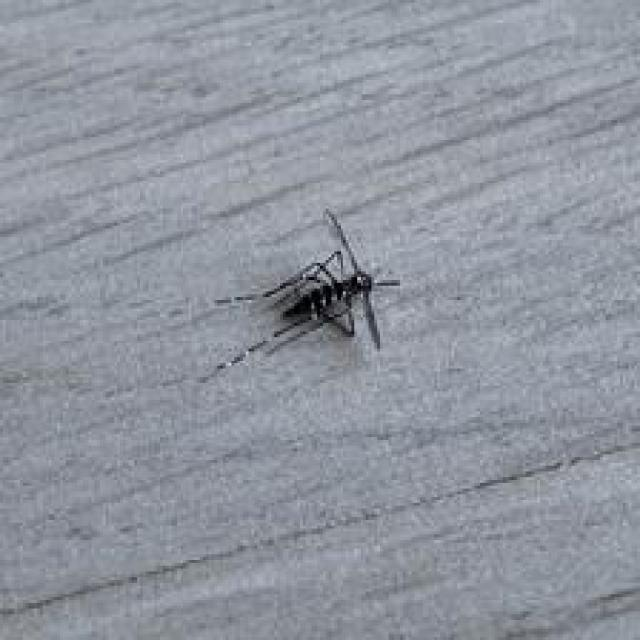Aedes albopictus: (202, 207, 402, 382)
